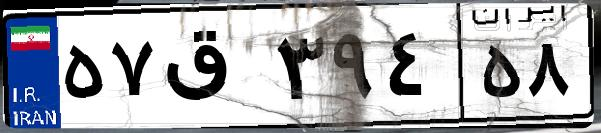3: (270, 28, 330, 110)
4: (385, 28, 445, 110)
5: (57, 26, 110, 100), (475, 38, 525, 113)
7: (110, 28, 158, 98)
8: (525, 38, 570, 115)
9: (330, 28, 385, 110)
ق: (158, 20, 270, 120)
